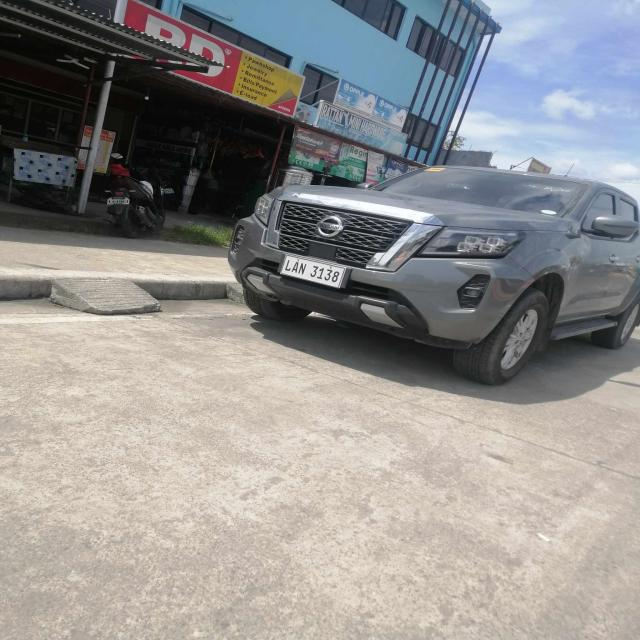license-plate: (280, 255, 346, 289)
